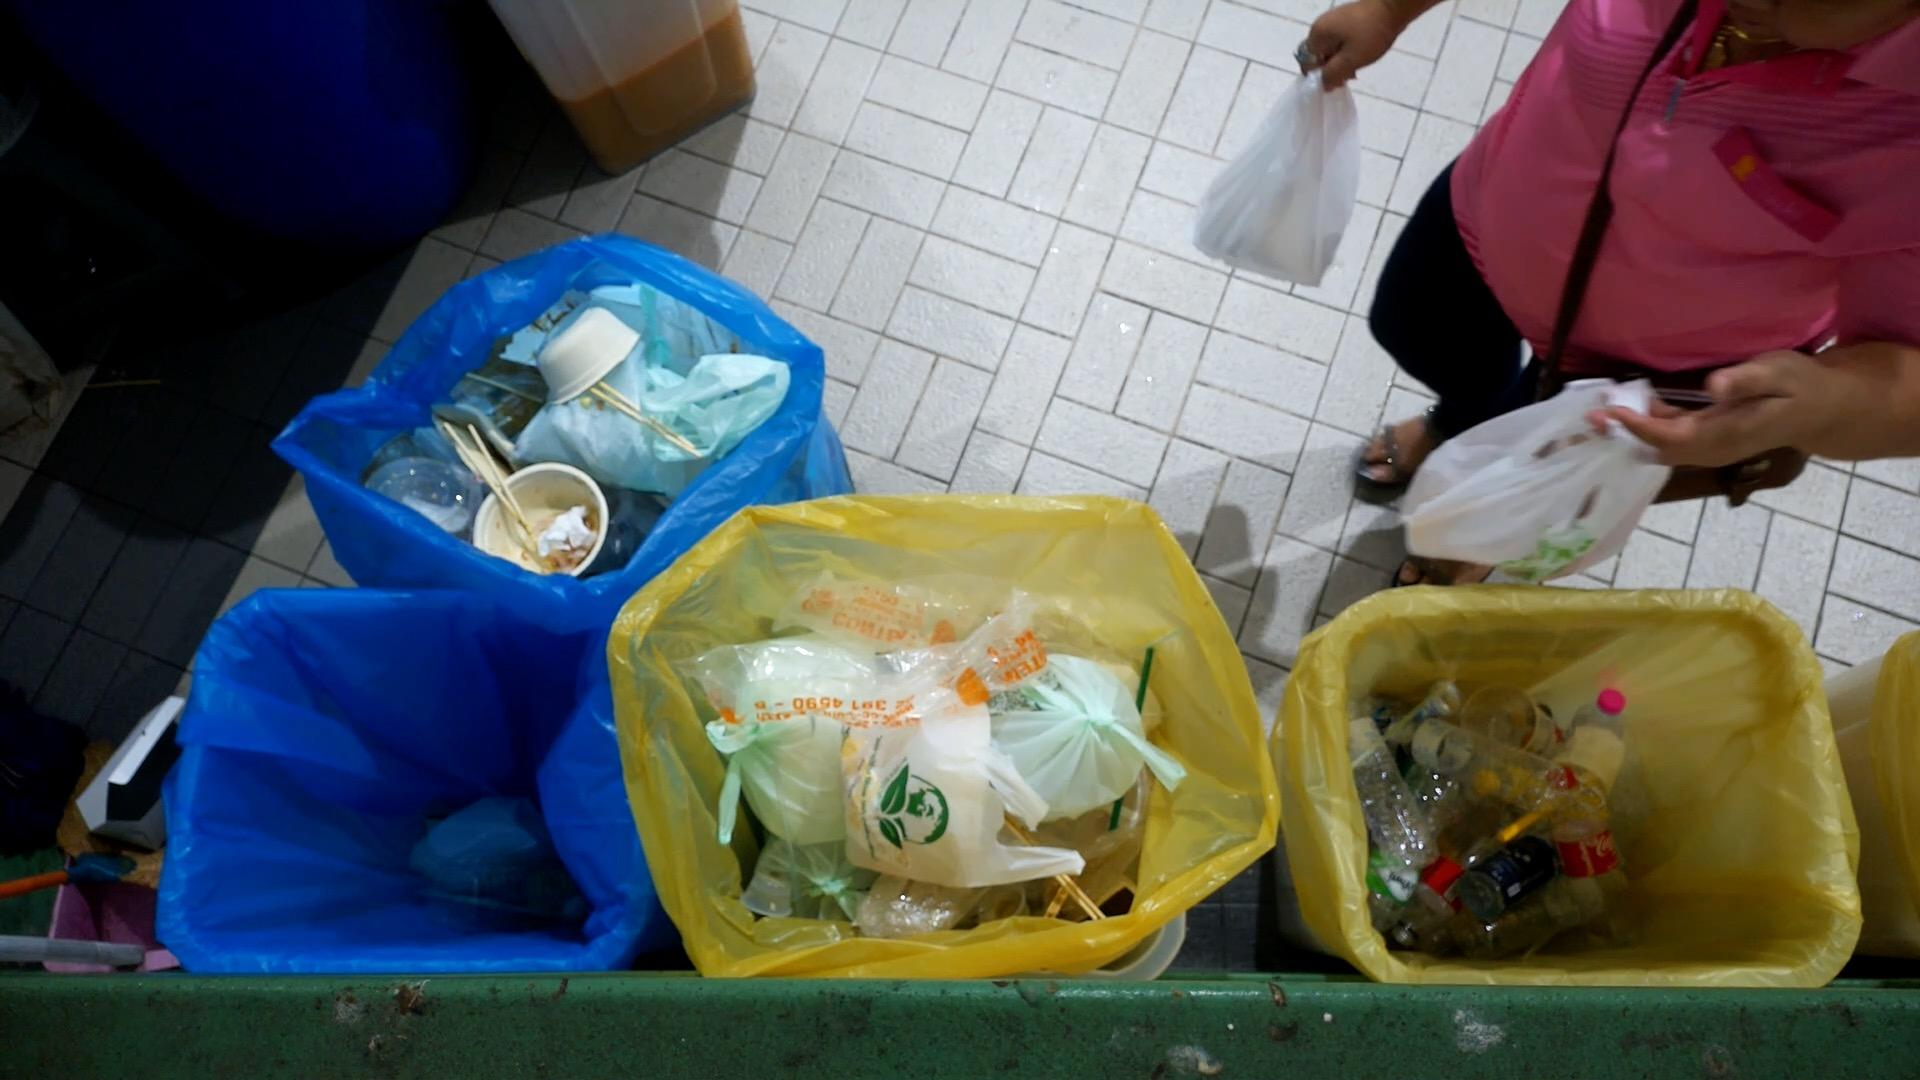filled plastic bag: (1400, 375, 1672, 575), (840, 673, 1088, 890), (1192, 62, 1367, 290), (708, 625, 880, 845), (993, 655, 1183, 823)
food container: (472, 463, 611, 580), (535, 307, 645, 407)
plastic bag: (703, 563, 1052, 745), (647, 349, 795, 452)
plastic bottle: (1543, 757, 1650, 955), (1387, 715, 1575, 820), (1340, 690, 1428, 877), (1385, 832, 1493, 955)
plastic cup: (1523, 712, 1638, 845)
sticks: (444, 419, 542, 550), (589, 377, 700, 455)
straw: (1105, 642, 1160, 837), (1495, 790, 1565, 840)
tissue paper: (542, 505, 600, 550)
